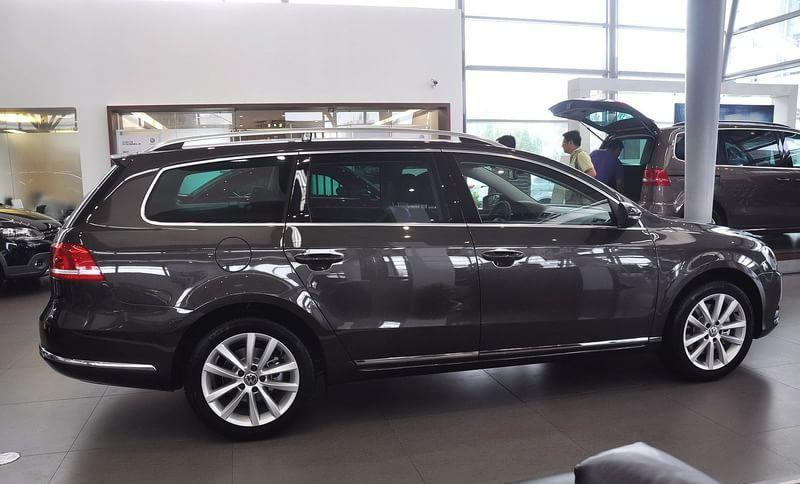Wagon: (37, 124, 783, 441)
